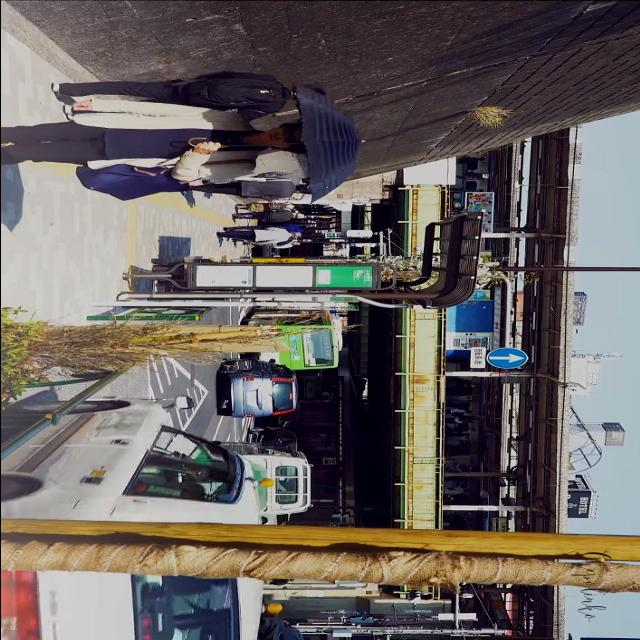bus: (242, 309, 344, 373)
